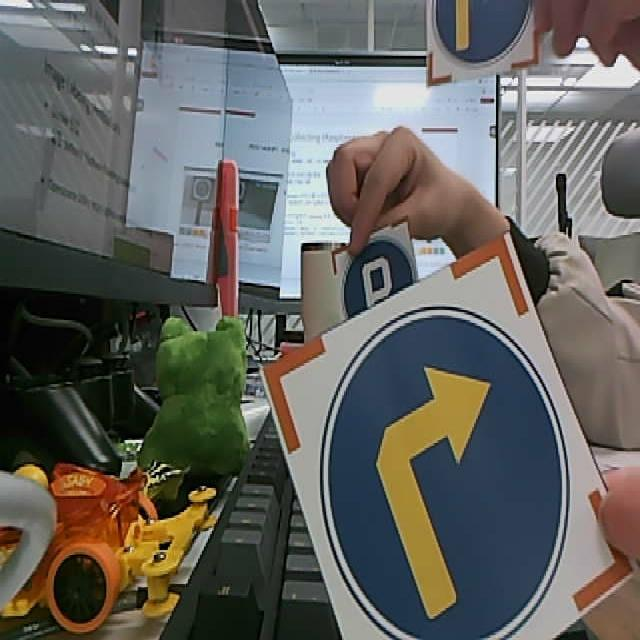parking: (339, 238, 415, 307)
turn: (320, 305, 570, 640)
